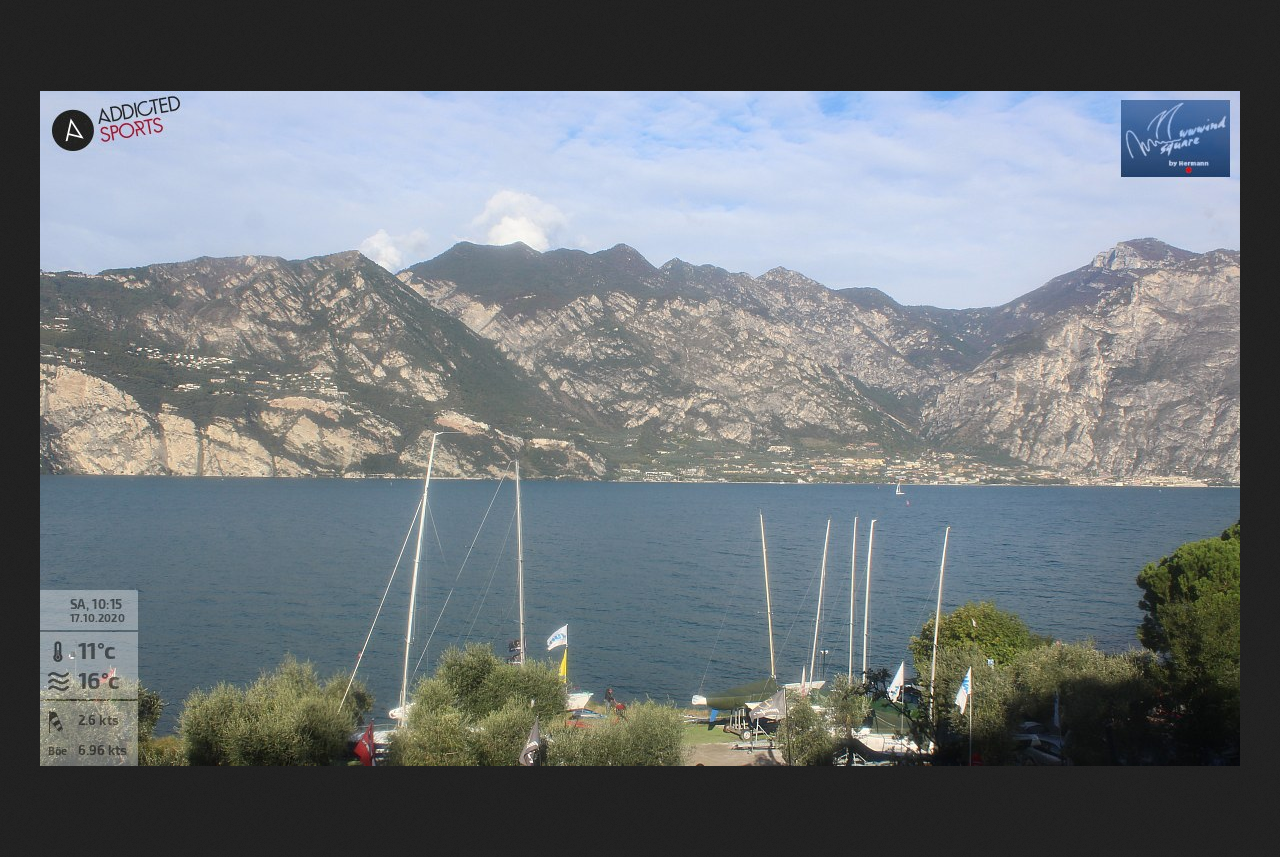maybe: (883, 658, 913, 705), (951, 663, 975, 720), (541, 620, 573, 652)
